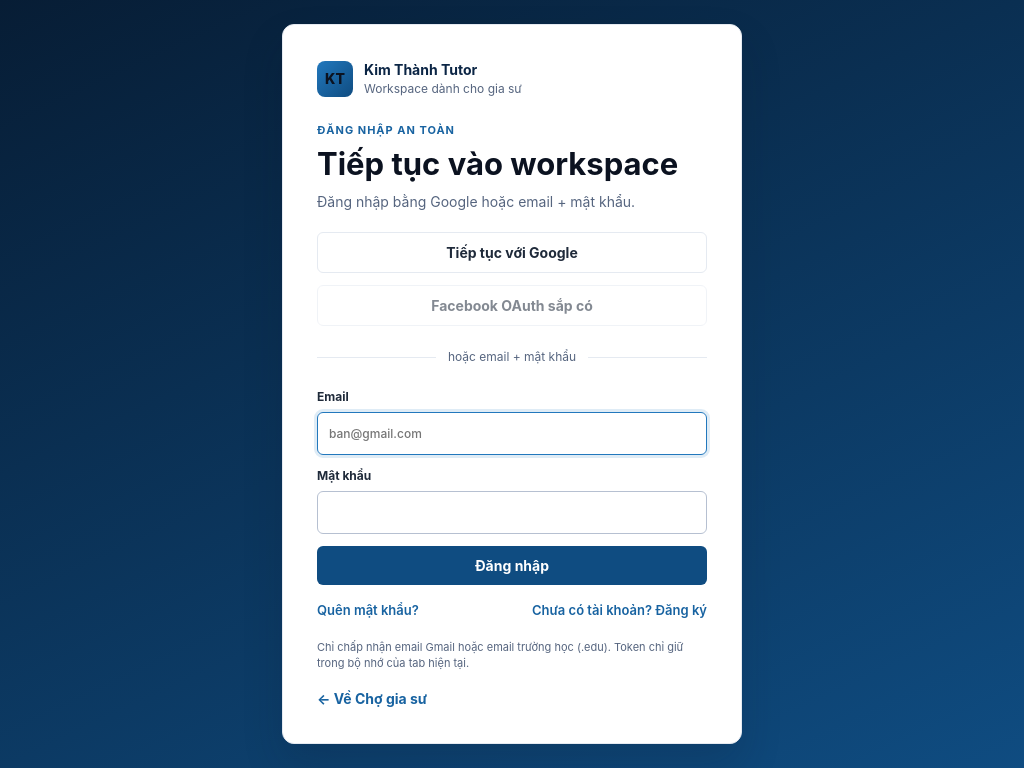
LoginPage email + password › logs in with email + password and routes a roleless user to profile
Type "p@gmail.com" into the field labelled "Email". click: (512, 434)
box: x1=317 y1=412 x2=707 y2=455
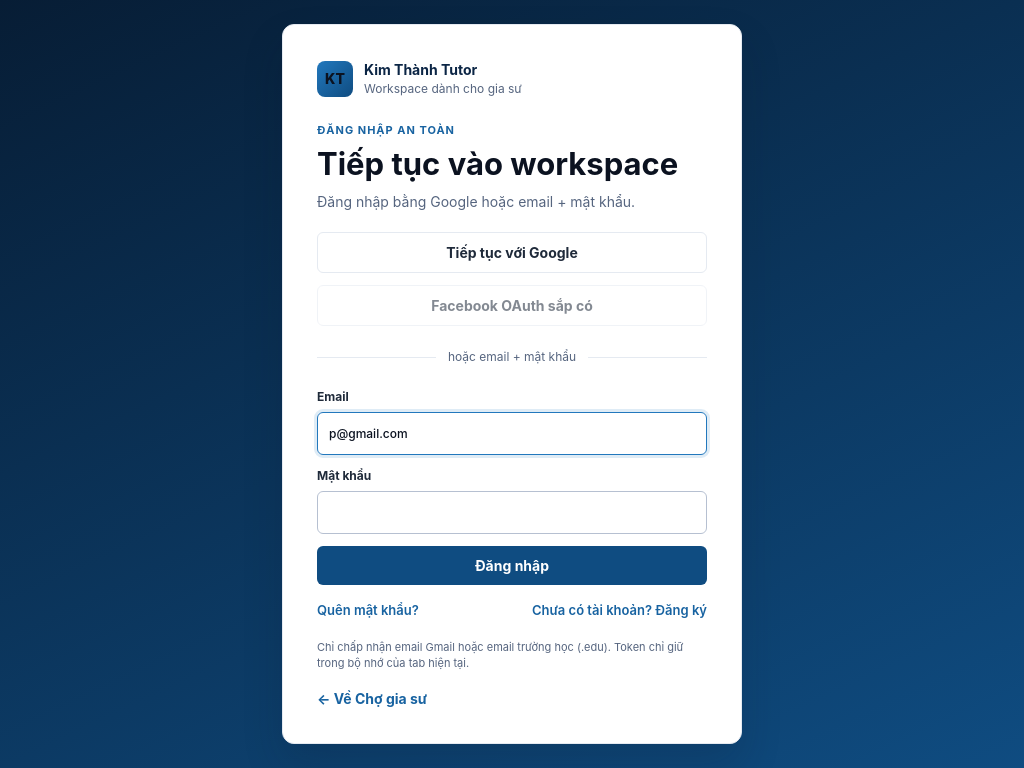
Type "a-strong-password" into the password field labelled "Mật khẩu". click: (512, 513)
box: x1=317 y1=491 x2=707 y2=534
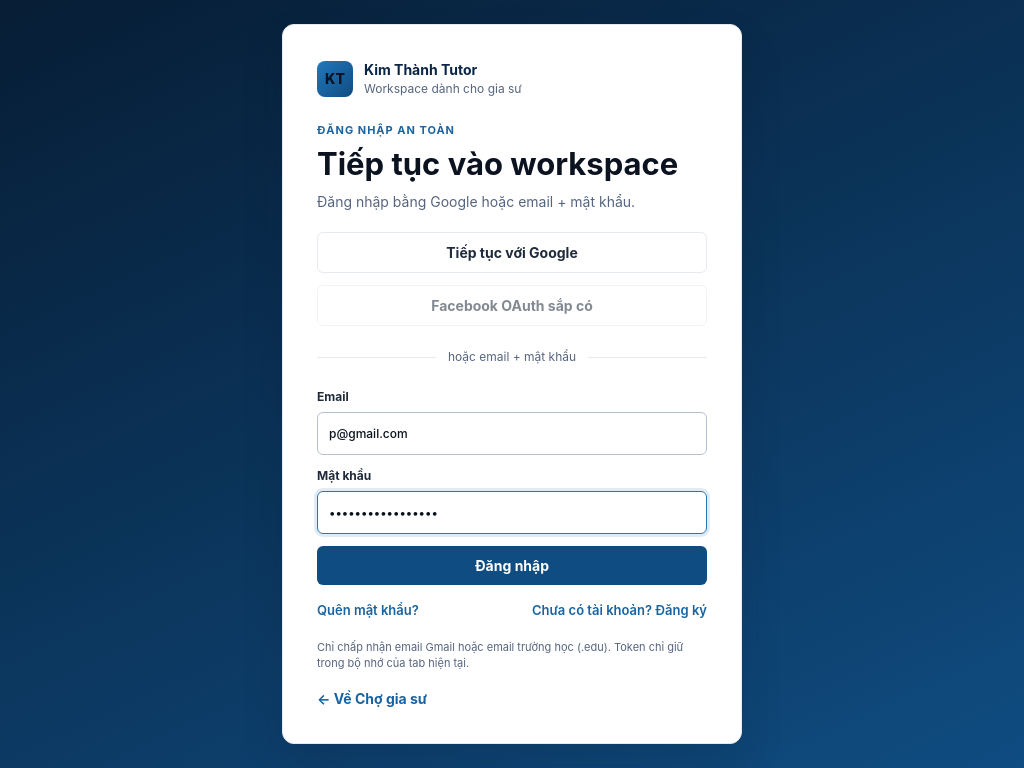
Click the button "Đăng nhập". click: (512, 566)
box: x1=317 y1=546 x2=707 y2=585
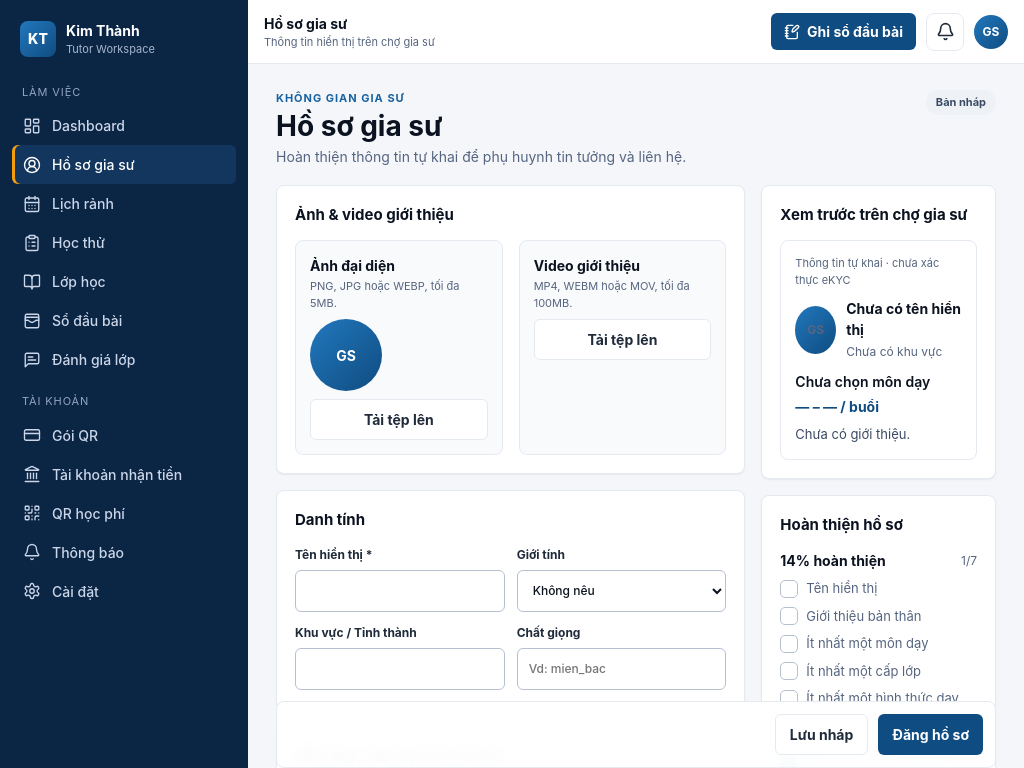
Expected: the heading "Hồ sơ gia sư" is shown, x1=276 y1=108 x2=442 y2=142
